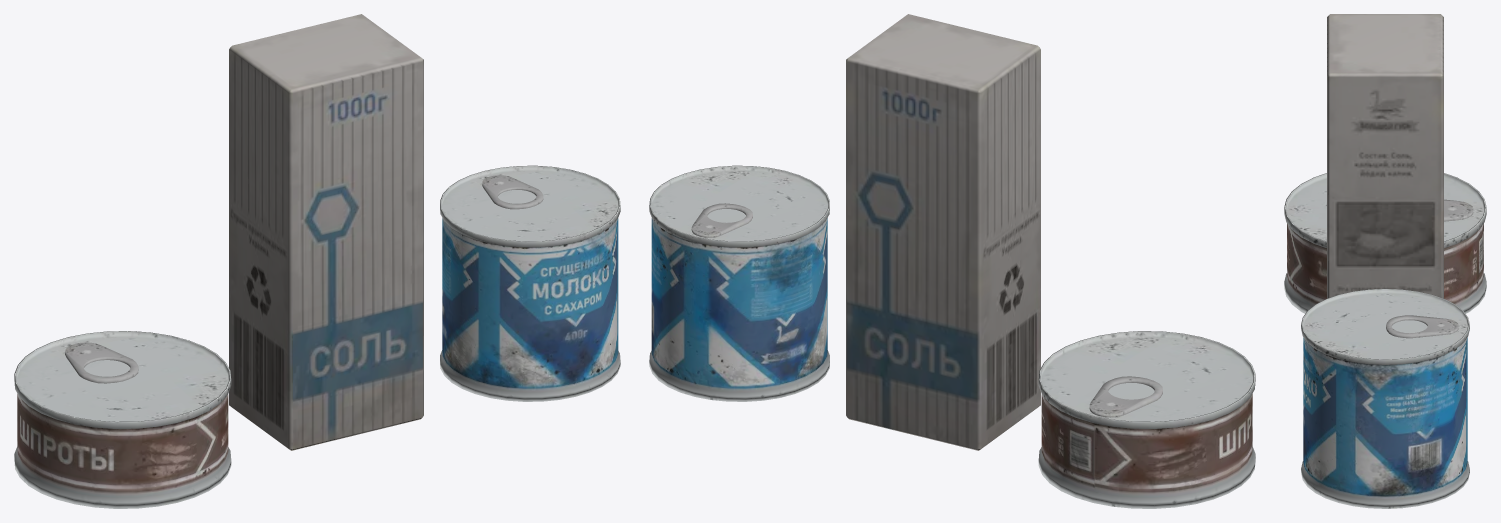
Rendered from russian_food_cans_01.glb.
The picture shows the model from 3 angles, left to right: view 1: azimuth 30°, elevation 25°; view 2: azimuth 150°, elevation 25°; view 3: azimuth 270°, elevation 25°; orthographic projection. The views are drawn at different scales.
Visible parts, largest first — view 1: russian_food_cans_01_salt_box; view 2: russian_food_cans_01_salt_box; view 3: russian_food_cans_01_salt_box.
Boxes of the visible parts, x1=… form: russian_food_cans_01_salt_box: x1=14, y1=14, x2=620, y2=508; russian_food_cans_01_salt_box: x1=649, y1=14, x2=1255, y2=508; russian_food_cans_01_salt_box: x1=1284, y1=14, x2=1486, y2=508.
Bounding box in the file's own units: 0.1424 × 0.0849 × 0.0462.
Materials: 1 (1 with a texture image).
